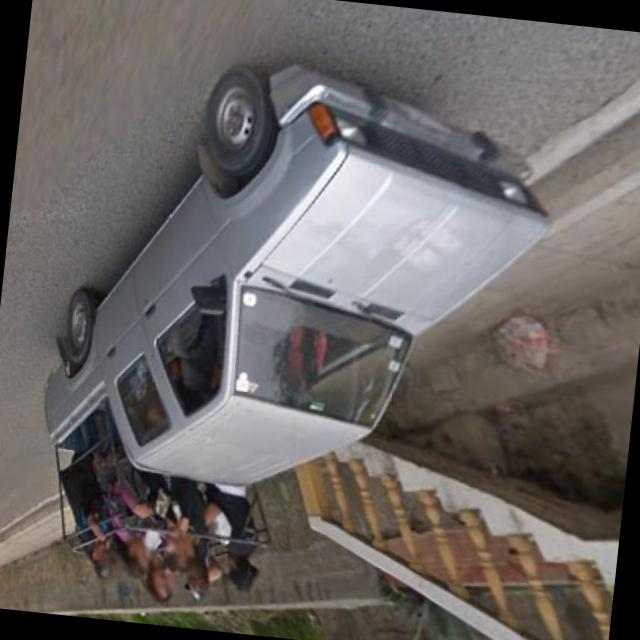car: (30, 18, 561, 534)
